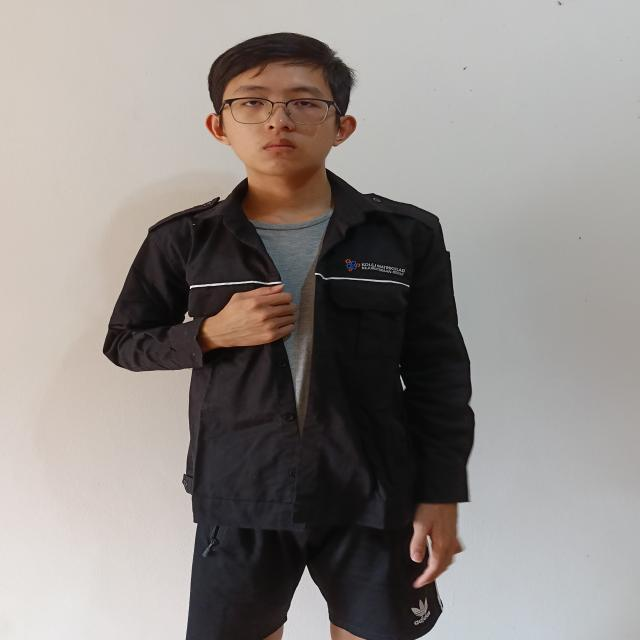person_with_labcoat: (104, 33, 474, 640)
